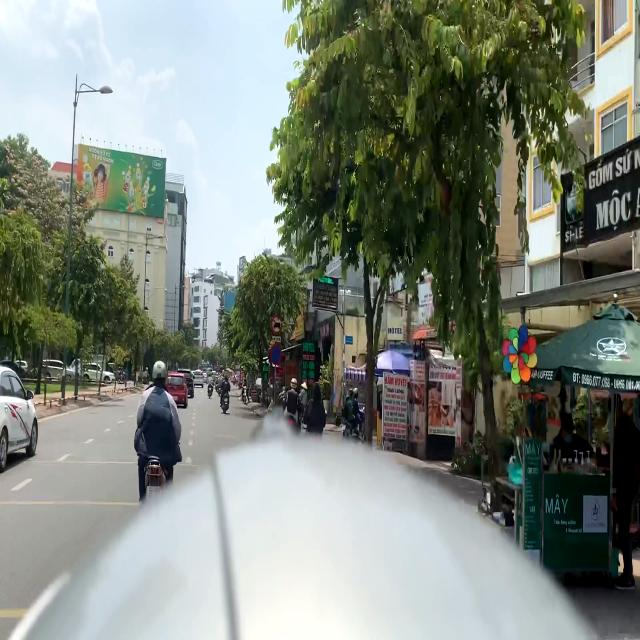P.106a: (271, 313, 283, 335)
P.131a: (270, 344, 282, 365)
